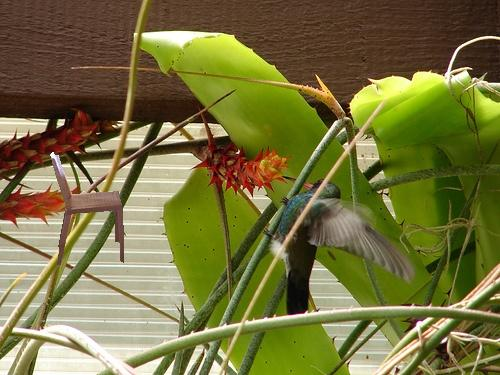tampered: (51, 153, 124, 265)
